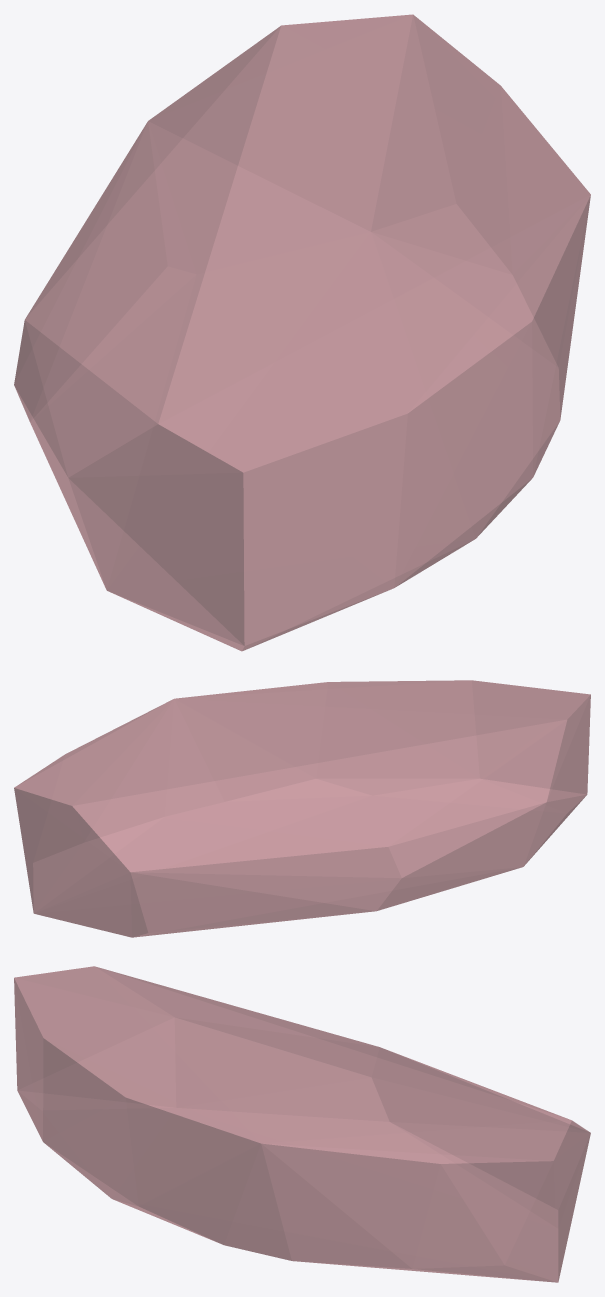
3 renders of one model, top to bottom at view 1: azimuth 30°, elevation 25°; view 2: azimuth 150°, elevation 25°; view 3: azimuth 270°, elevation 25°, orthographic. The views are drawn at different scales.
Parts seen in each view (by area): view 1: Shape_IndexedFaceSet.004_Shape_IndexedFaceSet.1969; view 2: Shape_IndexedFaceSet.004_Shape_IndexedFaceSet.1969; view 3: Shape_IndexedFaceSet.004_Shape_IndexedFaceSet.1969.
Boxes of the visible parts, bbox=[...] form: Shape_IndexedFaceSet.004_Shape_IndexedFaceSet.1969: bbox=[14, 14, 590, 651]; Shape_IndexedFaceSet.004_Shape_IndexedFaceSet.1969: bbox=[14, 680, 590, 937]; Shape_IndexedFaceSet.004_Shape_IndexedFaceSet.1969: bbox=[14, 966, 590, 1282].
Bounding box in the file's own units: 0.2378 × 0.0763 × 0.2891.
